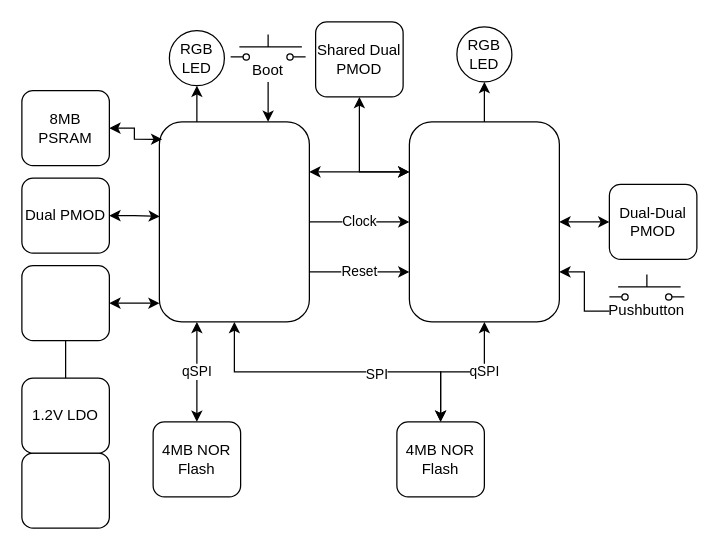
This 719x550 diagram has some shape labels left out. The box of each missing label's shape, as (x1, y1, x2, y2) in pixels:
3.3V LDO: (21, 452, 109, 528)
iCE40UP5K FPGA: (408, 121, 559, 322)
RP2350B Microcontroller: (158, 121, 309, 322)
USBC: (21, 264, 109, 341)
